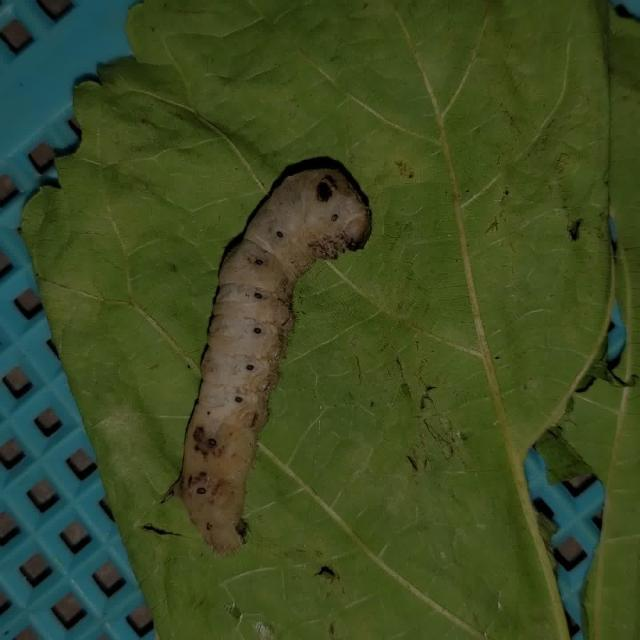Grasserie: (159, 129, 411, 577)
